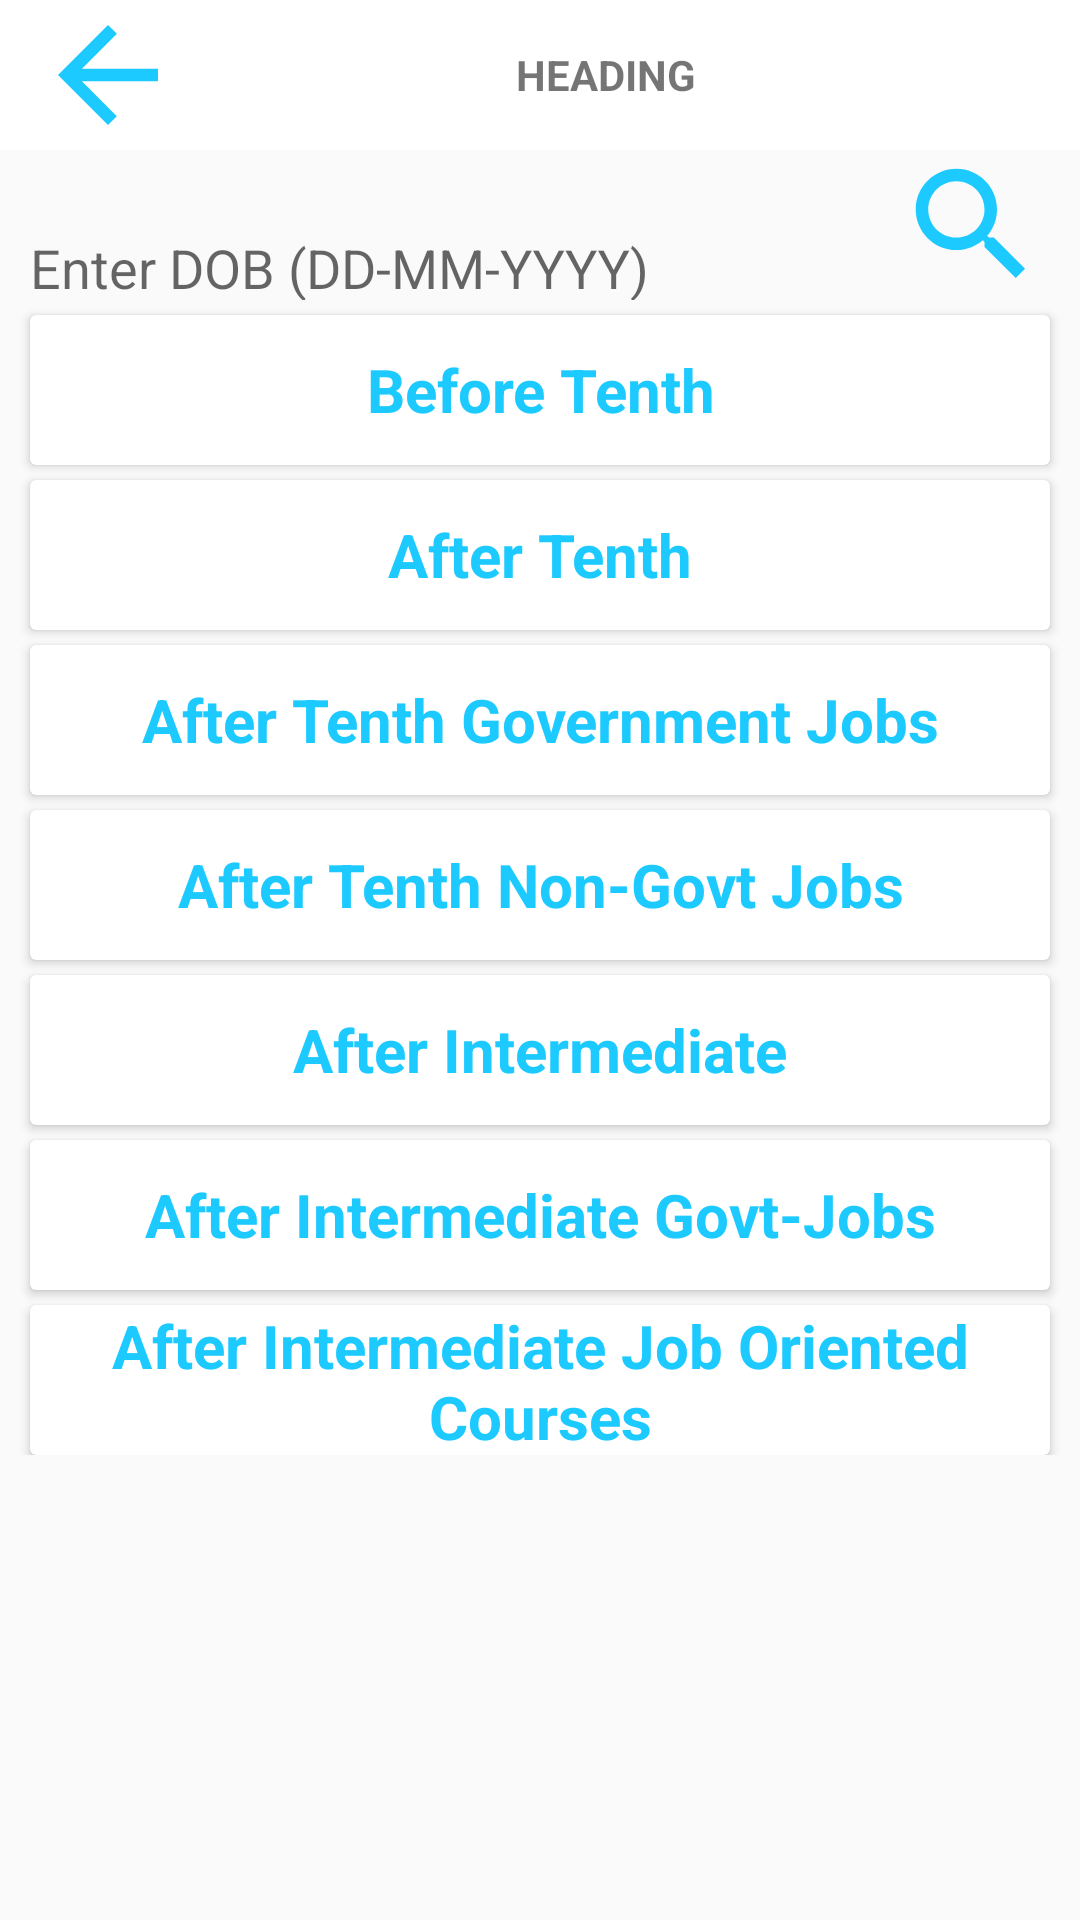

Icons on this 1080w x 1920h Android screen, each with the point to tap as [x,y]:
backarrow: [108,75]
search: [970,223]
